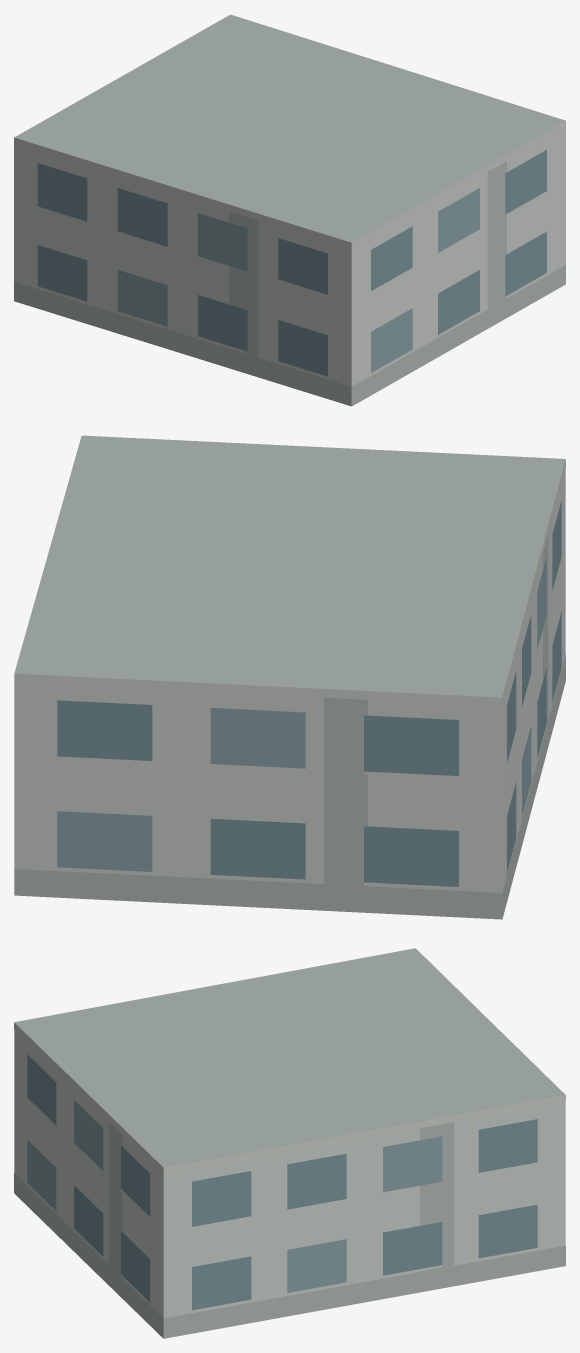
File: survey-upis-32732071.glb
3 renders of one model, top to bottom at view 1: azimuth 30°, elevation 25°; view 2: azimuth 150°, elevation 25°; view 3: azimuth 270°, elevation 25°, orthographic. The views are drawn at different scales.
Parts seen in each view (by area): view 1: survey-upis-32732071.tmp; view 2: survey-upis-32732071.tmp; view 3: survey-upis-32732071.tmp.
Boxes of the visible parts, x1,y1,x2,y2 form: survey-upis-32732071.tmp: [14, 14, 565, 406]; survey-upis-32732071.tmp: [14, 435, 565, 919]; survey-upis-32732071.tmp: [14, 948, 565, 1338].
Bounding box in the file's own units: 16.82 × 6.1 × 17.85.
